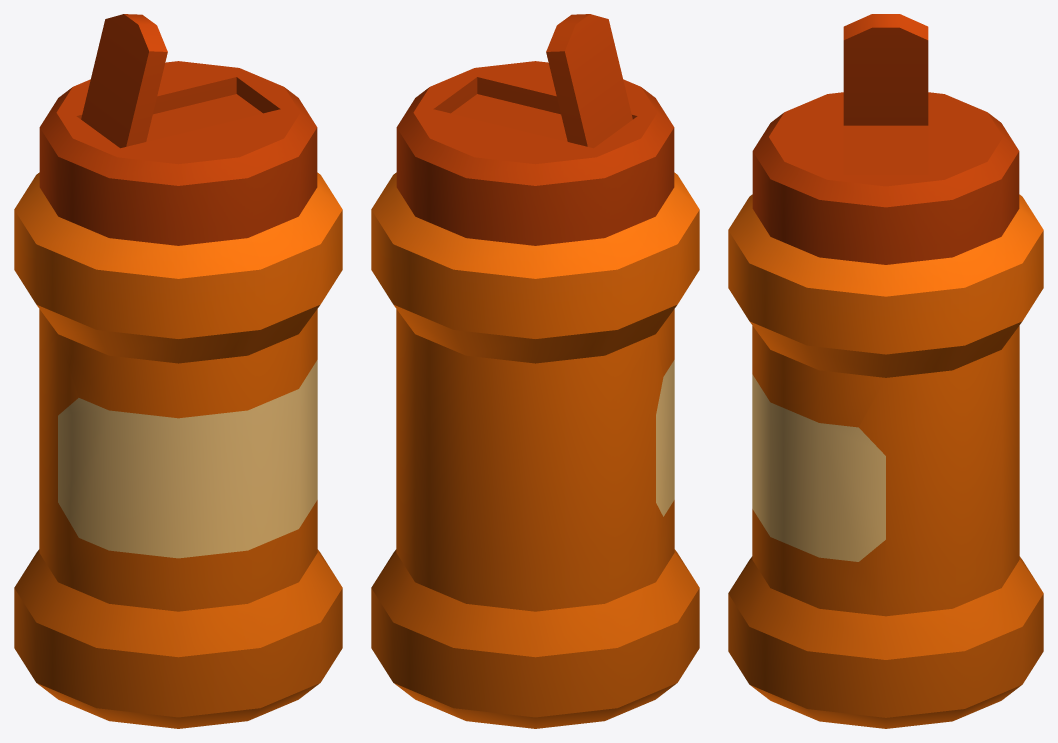
Rendered from Spice_Jar_01.fbx.
3 renders of one model, left to right at view 1: azimuth 30°, elevation 25°; view 2: azimuth 150°, elevation 25°; view 3: azimuth 270°, elevation 25°, orthographic. The views are drawn at different scales.
Parts seen in each view (by area): view 1: Spice_Jar_01; view 2: Spice_Jar_01; view 3: Spice_Jar_01.
Boxes of the visible parts, x1,y1,x2,y2 form: Spice_Jar_01: (14,14,342,728); Spice_Jar_01: (371,14,699,728); Spice_Jar_01: (728,14,1043,728).
Size of the model in its own units: 16.41 by 36.52 by 16.41.
